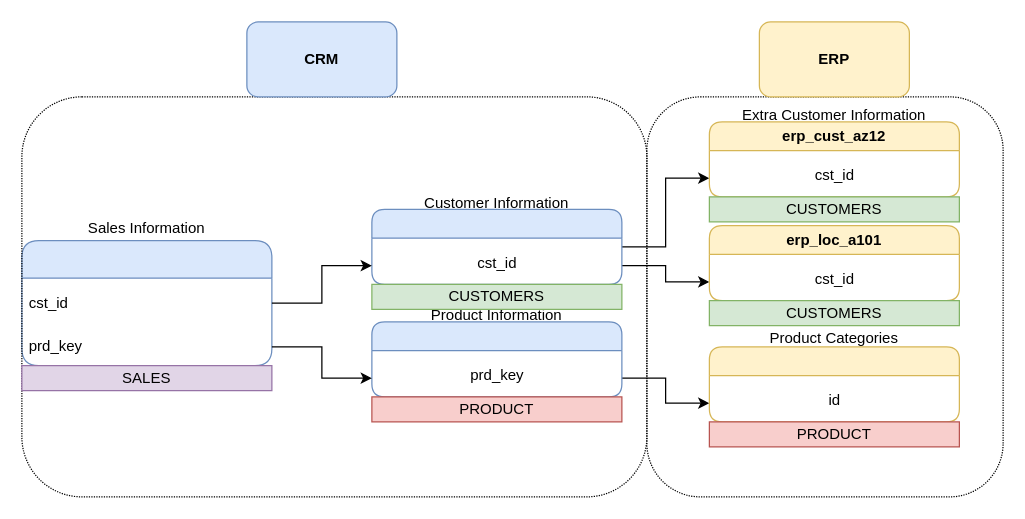
Some shapes in this 1025 by 519 pixel diagram are drawn without their labels. Each missing label, with the box of its shape:
crm_cust_info: (371, 208, 622, 284)
crm_prd_info: (371, 321, 622, 397)
crm_sales_details: (21, 239, 272, 366)
erp_px_cat_g1v2: (708, 346, 959, 422)
